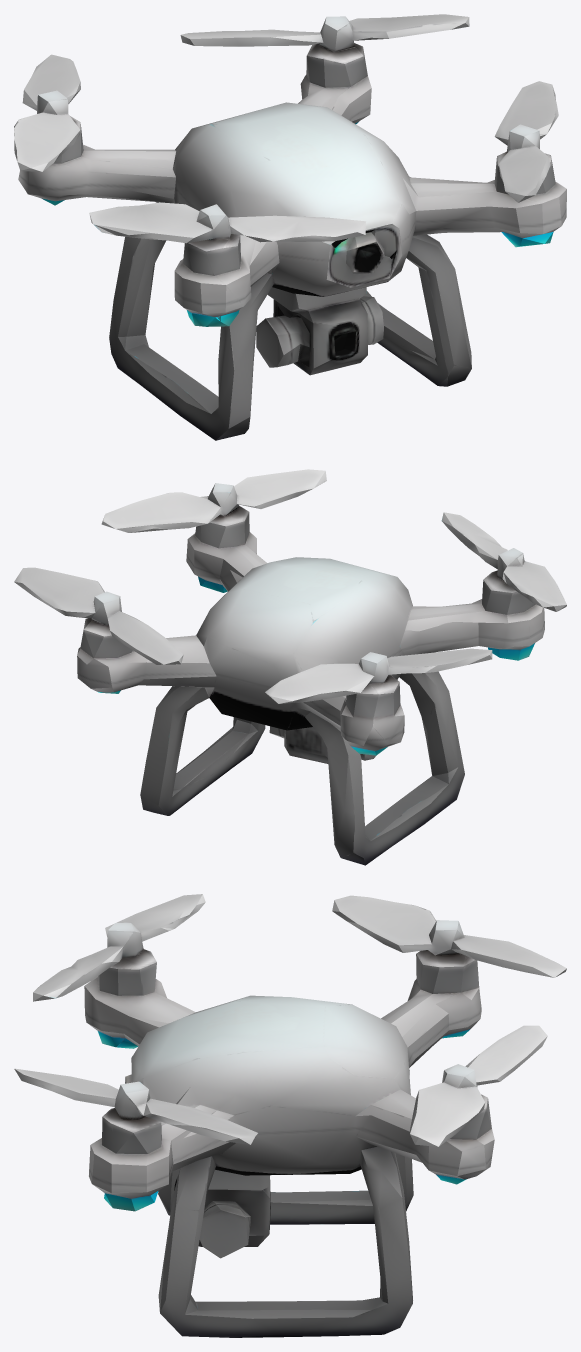
File: Drone.glb
3 renders of one model, top to bottom at view 1: azimuth 30°, elevation 25°; view 2: azimuth 150°, elevation 25°; view 3: azimuth 270°, elevation 25°, orthographic. The views are drawn at different scales.
Visible parts, largest first — view 1: geometry_0; view 2: geometry_0; view 3: geometry_0.
Part boxes in pixels (x1=…): geometry_0: x1=14, y1=14, x2=566, y2=440; geometry_0: x1=14, y1=469, x2=566, y2=865; geometry_0: x1=14, y1=894, x2=566, y2=1337.
Bounding box in the file's own units: 0.35 × 0.1798 × 0.3308.
Materials: 1 (1 with a texture image).
